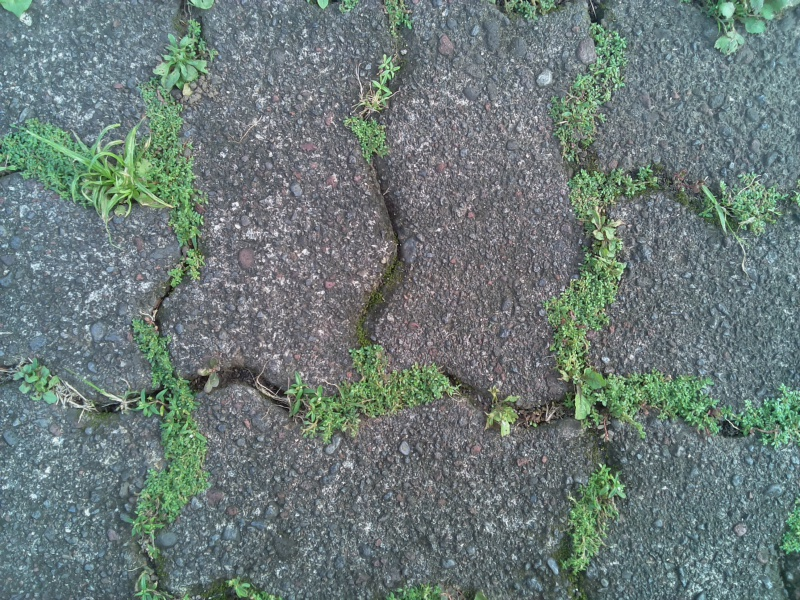Weed: (131, 309, 217, 559), (548, 166, 656, 363), (277, 337, 462, 442), (129, 80, 216, 247), (564, 368, 722, 444), (557, 18, 634, 158), (552, 459, 627, 581), (70, 129, 158, 227), (1, 117, 89, 208), (721, 168, 788, 242), (737, 378, 800, 452), (5, 351, 74, 412), (151, 32, 211, 93), (336, 111, 393, 165), (562, 367, 607, 425), (477, 388, 525, 441), (691, 176, 732, 238), (349, 70, 401, 115), (88, 374, 136, 421), (164, 246, 209, 289), (373, 50, 407, 85), (220, 574, 255, 600)
